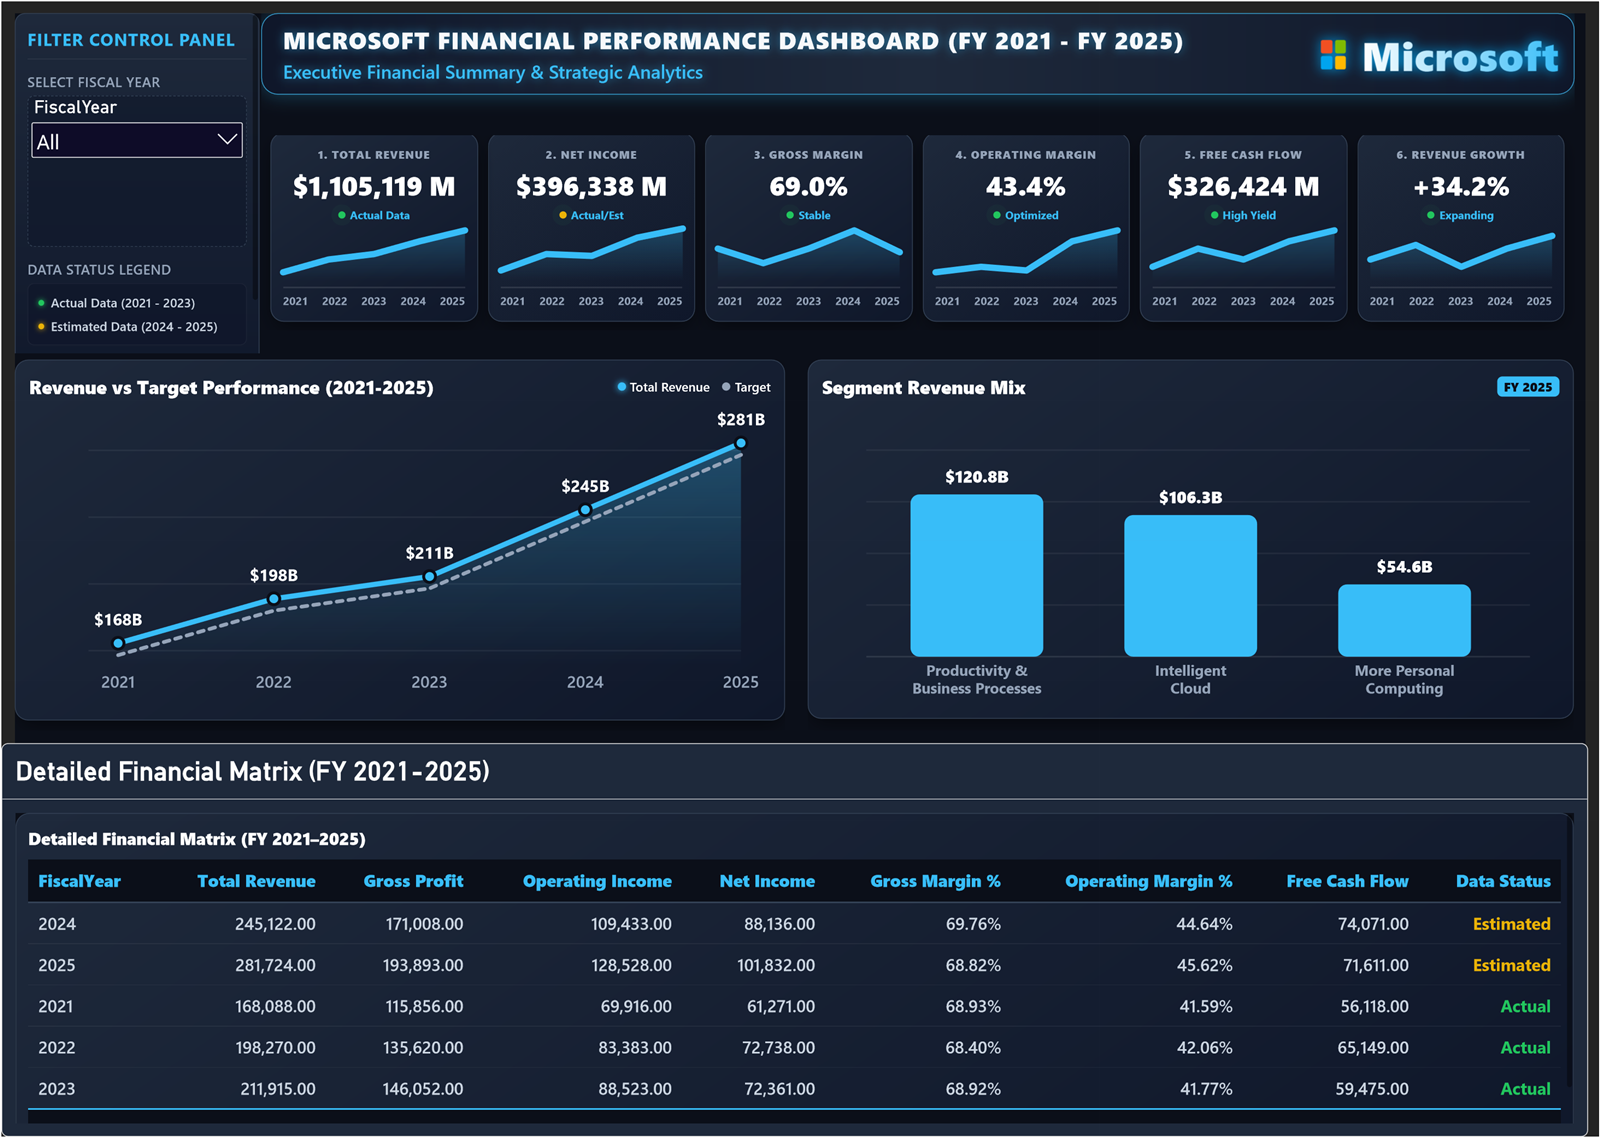

The dashboard page shown, as its layout file describes it:
{"tool":"powerbi","page":{"name":"Page 1","canvas":[1900,1350],"ordinal":0},"visuals":[{"type":"htmlContent443BE3AD55E043BF878BED274D3A6855","fields":{"content":["Balance Sheet.Interactive_Background_Code"]},"box":[0,0,1900,1350.5],"z":0},{"type":"htmlContent443BE3AD55E043BF878BED274D3A6855","fields":{"content":["Balance Sheet.KPI_Banner_HTML"]},"box":[291.8,135.7,1594.8,271.4],"z":1000},{"type":"htmlContent443BE3AD55E043BF878BED274D3A6855","fields":{"content":["Balance Sheet.Header_Banner_HTML"]},"box":[292.8,0,1594,175.2],"z":2000},{"type":"htmlContent443BE3AD55E043BF878BED274D3A6855","fields":{"content":["Balance Sheet.Left_Slicer_Pane_HTML"]},"box":[0,0,323.5,434.3],"z":3000},{"type":"slicer","fields":{"Values":["Calendar.FiscalYear"]},"box":[31.3,112.7,260.9,177.4],"z":4000},{"type":"htmlContent443BE3AD55E043BF878BED274D3A6855","title":"Detailed Financial Matrix (FY 2021-2025)","fields":{"content":["Balance Sheet.Detailed_Financial_Matrix_HTML"]},"box":[0,882.2,1886.6,468.2],"z":7000},{"type":"htmlContent443BE3AD55E043BF878BED274D3A6855","fields":{"content":["Segment Analysis.Revenue_vs_Target_HTML"]},"box":[0,411.7,947.8,470.5],"z":7001},{"type":"htmlContent443BE3AD55E043BF878BED274D3A6855","fields":{"content":["Balance Sheet.Segment_Revenue_Mix_HTML"]},"box":[943.3,411.7,943.3,470.5],"z":7002}]}

Visuals, with their boxes in screenshot pixels (x1, y1, x2, y2), scaled from the page's 1900x1350 canvas onto the 1600x1138 screenshot:
htmlContent443BE3AD55E043BF878BED274D3A6855 - Balance Sheet.Interactive_Background_Code: box=[0, 0, 1599, 1137]
htmlContent443BE3AD55E043BF878BED274D3A6855 - Balance Sheet.KPI_Banner_HTML: box=[246, 114, 1589, 343]
htmlContent443BE3AD55E043BF878BED274D3A6855 - Balance Sheet.Header_Banner_HTML: box=[247, 0, 1589, 148]
htmlContent443BE3AD55E043BF878BED274D3A6855 - Balance Sheet.Left_Slicer_Pane_HTML: box=[0, 0, 272, 366]
slicer - Calendar.FiscalYear: box=[26, 95, 246, 245]
"Detailed Financial Matrix (FY 2021-2025)" htmlContent443BE3AD55E043BF878BED274D3A6855: box=[0, 744, 1589, 1137]
htmlContent443BE3AD55E043BF878BED274D3A6855 - Segment Analysis.Revenue_vs_Target_HTML: box=[0, 347, 798, 744]
htmlContent443BE3AD55E043BF878BED274D3A6855 - Balance Sheet.Segment_Revenue_Mix_HTML: box=[794, 347, 1589, 744]
